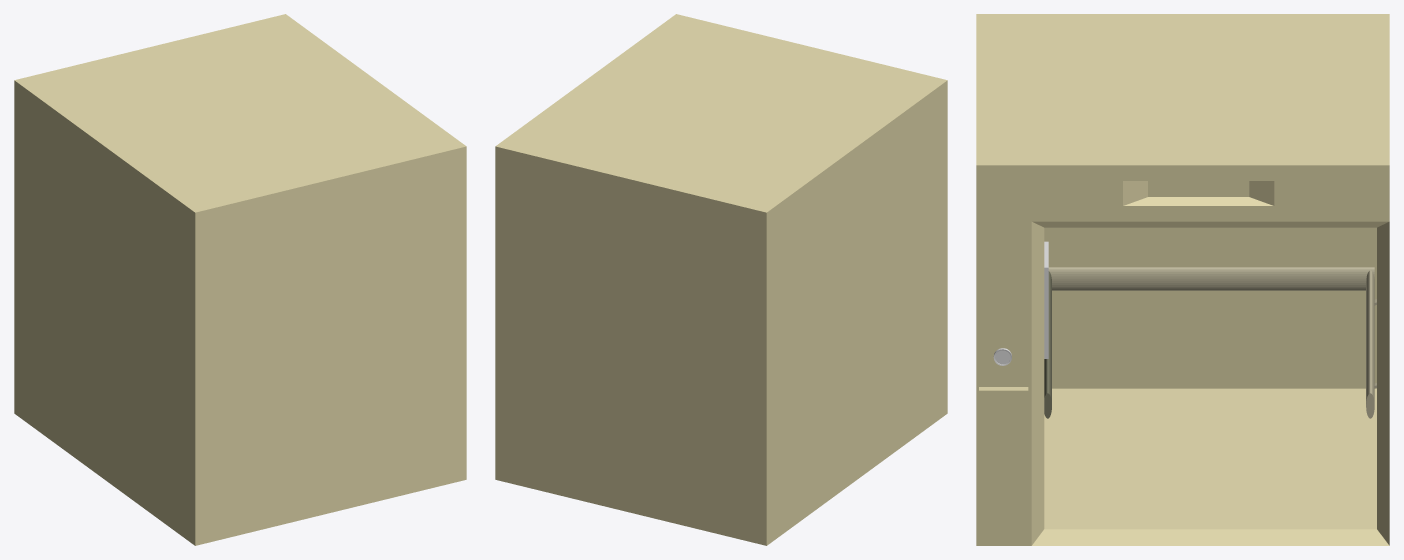
The model's file is AscensorChido1 (1).fbx.
3 renders of one model, left to right at view 1: azimuth 30°, elevation 25°; view 2: azimuth 150°, elevation 25°; view 3: azimuth 270°, elevation 25°, orthographic. The views are drawn at different scales.
Parts seen in each view (by area): view 1: Ascensor; view 2: Ascensor; view 3: Ascensor, Barra1, Barra2, Barra2.001, PanelDeControl.
Boxes of the visible parts, x1=… form: Ascensor: x1=14, y1=14, x2=466, y2=545; Ascensor: x1=495, y1=14, x2=947, y2=545; Ascensor: x1=976, y1=14, x2=1389, y2=545; Barra1: x1=1048, y1=267, x2=1374, y2=290; Barra2: x1=1366, y1=270, x2=1376, y2=418; Barra2.001: x1=1044, y1=271, x2=1051, y2=418; PanelDeControl: x1=1044, y1=241, x2=1048, y2=358.
Bounding box in the file's own units: 215 × 253 × 248.
